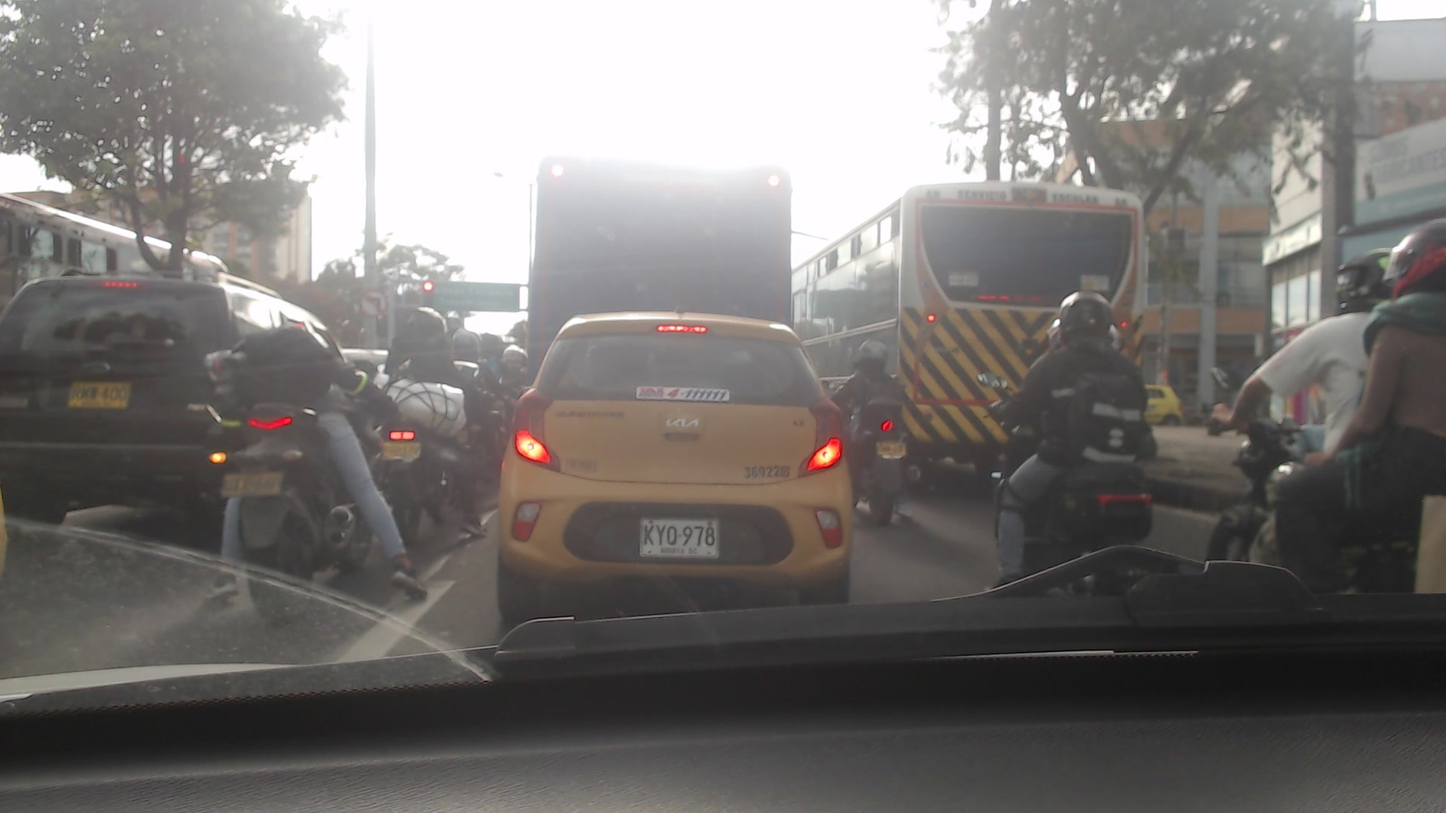bus: (806, 177, 1163, 463)
car: (503, 316, 871, 618), (0, 279, 345, 541)
motorcycle: (187, 398, 396, 618), (984, 463, 1160, 594), (365, 417, 494, 535), (840, 407, 916, 527)
person: (199, 329, 434, 609), (970, 276, 1165, 600), (1265, 255, 1386, 465), (1378, 208, 1446, 555), (374, 312, 479, 431), (834, 337, 910, 447)
truck: (516, 152, 816, 333)
